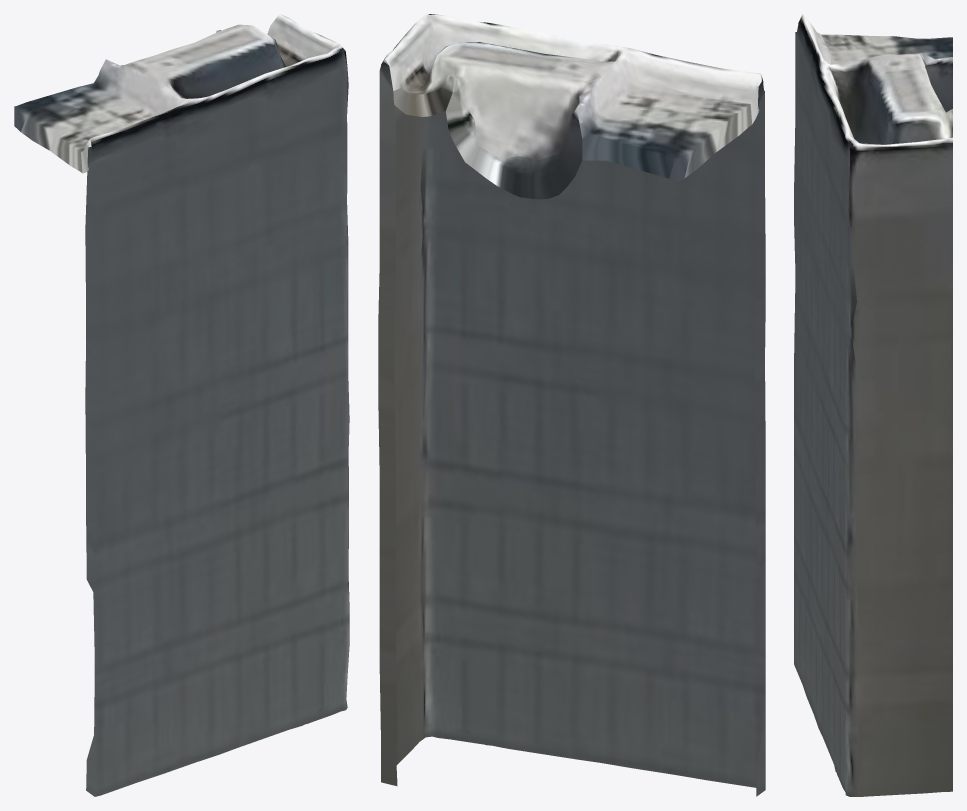
File: z20-167750-405245-h1-yup-uvflip-v3-world.glb
3 views of the same model, side by side, from view 1: azimuth 30°, elevation 25°; view 2: azimuth 150°, elevation 25°; view 3: azimuth 270°, elevation 25° (orthographic). The views are drawn at different scales.
Size of the model in its own units: 9.04 by 20.28 by 4.44.
1 material, 1 textured.
